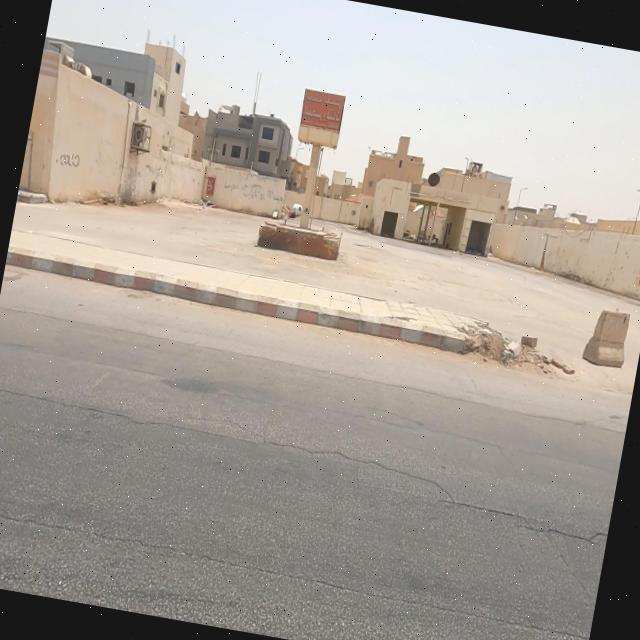Graffiti: (224, 178, 285, 205), (58, 152, 82, 172), (635, 260, 640, 292)
